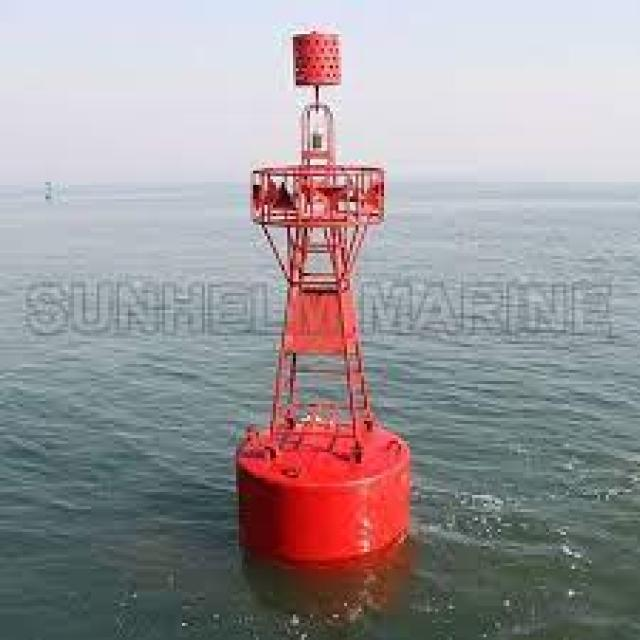buoy: (207, 9, 428, 580)
